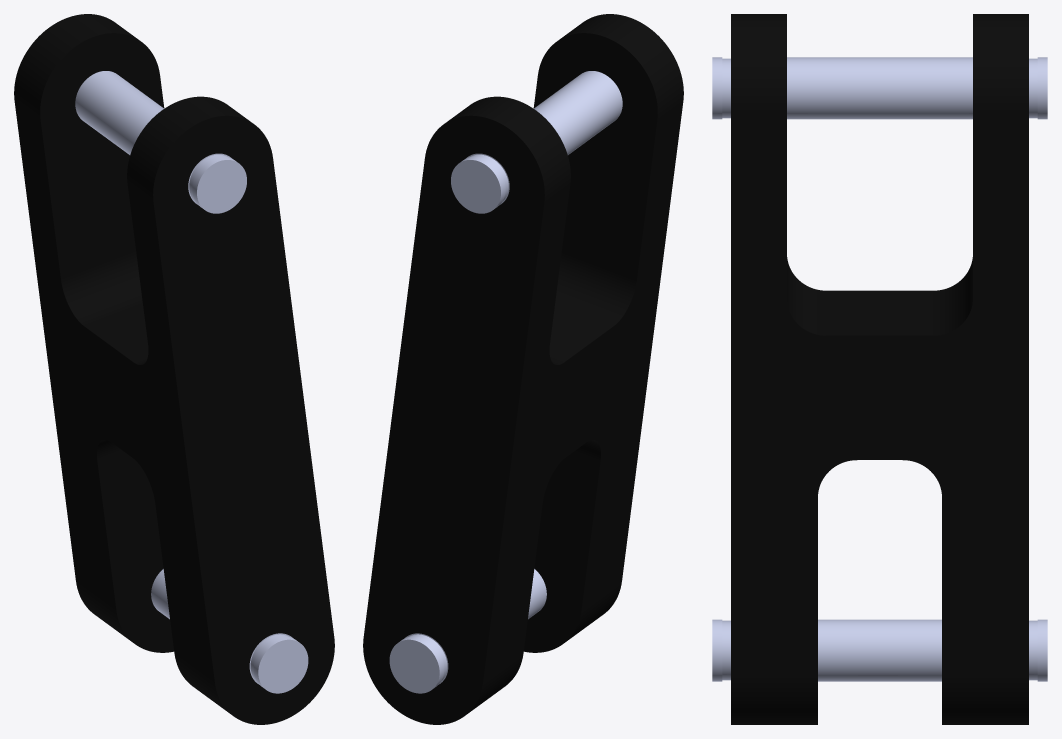
The model's file is outer_link.obj.
The picture shows the model from 3 angles, left to right: view 1: azimuth 30°, elevation 25°; view 2: azimuth 150°, elevation 25°; view 3: azimuth 270°, elevation 25°; orthographic projection. The views are drawn at different scales.
Parts seen in each view (by area): view 1: Solid1; view 2: Solid1; view 3: Solid1.
Boxes of the visible parts, box(x1,y1,x2,y2) form: Solid1: box(14, 14, 334, 724); Solid1: box(363, 14, 683, 724); Solid1: box(712, 14, 1047, 724).
Size of the model in its own units: 0.0181 by 0.0591 by 0.027.
